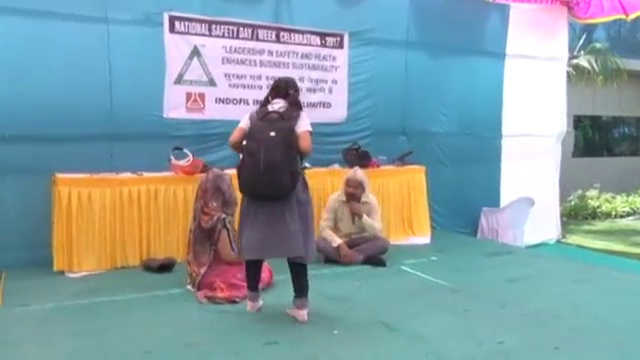helmet_off: (195, 173, 237, 214), (266, 76, 300, 107), (341, 167, 367, 205)
person: (225, 76, 316, 322), (180, 172, 273, 301), (314, 165, 393, 271)
